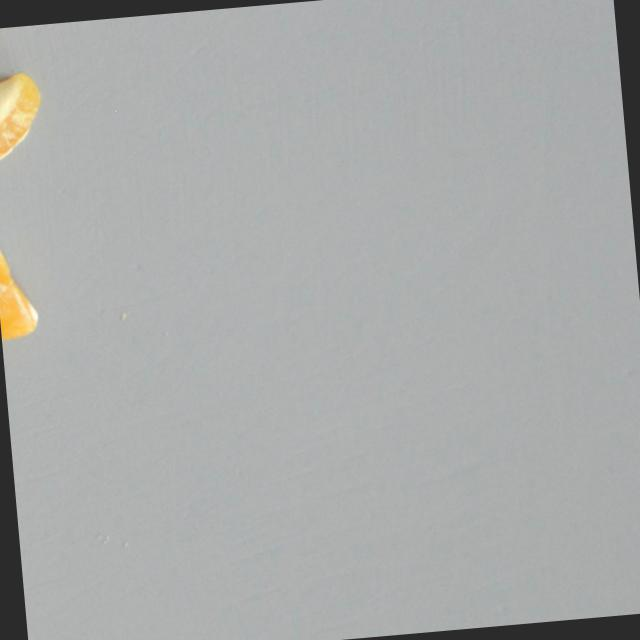dañado: (0, 64, 53, 170), (0, 215, 42, 345)
